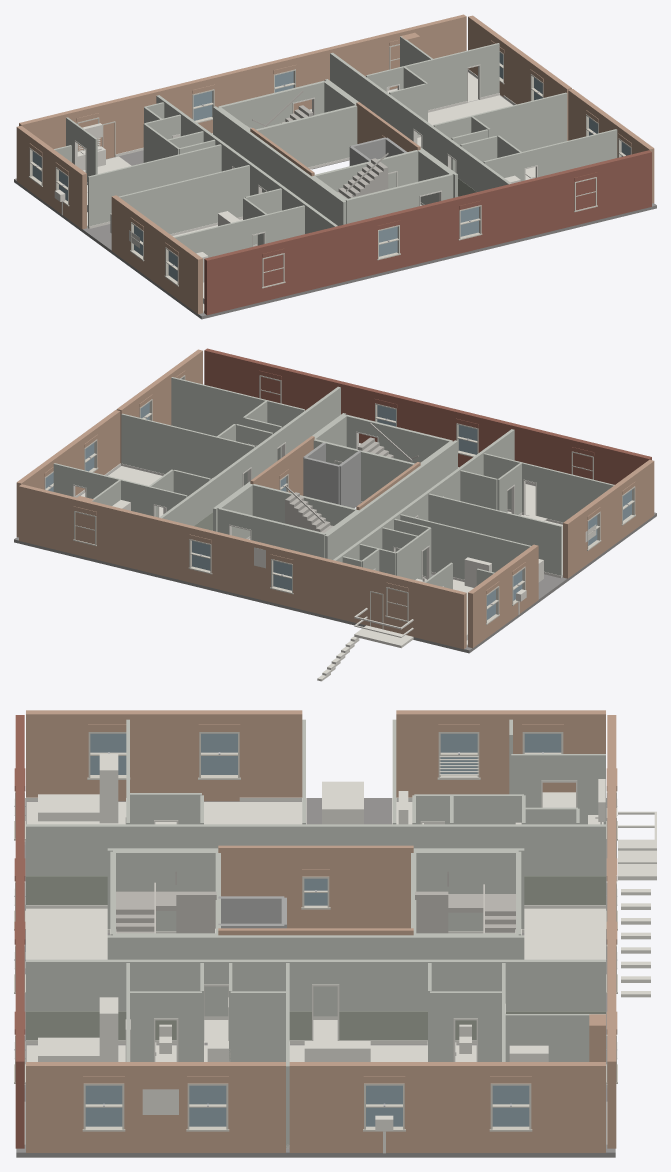
The model's file is floor_04.glb.
3 views of the same model, one above another, from view 1: azimuth 30°, elevation 25°; view 2: azimuth 150°, elevation 25°; view 3: azimuth 270°, elevation 25° (orthographic). The views are drawn at different scales.
Visible parts, largest first — view 1: F04_walls-col, F04_walls_cbrick-col, F04_walls_fbrick-col, F04_furniture-col, F04_stone_trim-col, F04_glazing-col, F04_slabs-col, F04_trim, F04_stairs, F04_walls_conc-col; view 2: F04_walls-col, F04_walls_cbrick-col, F04_walls_fbrick-col, F04_furniture-col, F04_stone_trim-col, F04_glazing-col, F04_walls_conc-col, F04_slabs-col, F04_stairs, F04_trim; view 3: F04_walls-col, F04_walls_cbrick-col, F04_furniture-col, F04_dado, F04_glazing-col, F04_stairs, F04_stone_trim-col, F04_slabs-col, F04_walls_fbrick-col, F04_trim, F04_walls_conc-col.
Boxes of the visible parts, x1,y1,x2,y2 form: F04_walls-col: [54, 36, 617, 257]; F04_walls_cbrick-col: [16, 14, 654, 314]; F04_walls_fbrick-col: [204, 150, 651, 315]; F04_furniture-col: [54, 72, 535, 312]; F04_stone_trim-col: [28, 44, 631, 288]; F04_glazing-col: [32, 52, 630, 281]; F04_slabs-col: [14, 72, 656, 319]; F04_trim: [74, 64, 537, 312]; F04_stairs: [246, 90, 388, 198]; F04_walls_conc-col: [349, 137, 406, 165]; F04_walls-col: [53, 377, 614, 589]; F04_walls_cbrick-col: [16, 349, 654, 649]; F04_walls_fbrick-col: [204, 348, 651, 484]; F04_furniture-col: [81, 443, 596, 681]; F04_stone_trim-col: [44, 375, 635, 629]; F04_glazing-col: [45, 379, 631, 619]; F04_walls_conc-col: [303, 442, 361, 508]; F04_slabs-col: [14, 443, 656, 653]; F04_stairs: [285, 422, 418, 532]; F04_trim: [73, 431, 562, 646]; F04_walls-col: [26, 719, 605, 1148]; F04_walls_cbrick-col: [26, 710, 617, 1152]; F04_furniture-col: [26, 754, 656, 1153]; F04_dado: [26, 876, 605, 1040]; F04_glazing-col: [85, 733, 561, 1126]; F04_stairs: [116, 871, 515, 933]; F04_stone_trim-col: [14, 732, 617, 1131]; F04_slabs-col: [16, 798, 615, 1157]; F04_walls_fbrick-col: [14, 715, 25, 1148]; F04_trim: [24, 780, 607, 1148]; F04_walls_conc-col: [218, 896, 286, 928].
Size of what is drawn, in the model's own units: 28.6 by 7.36 by 21.4.
